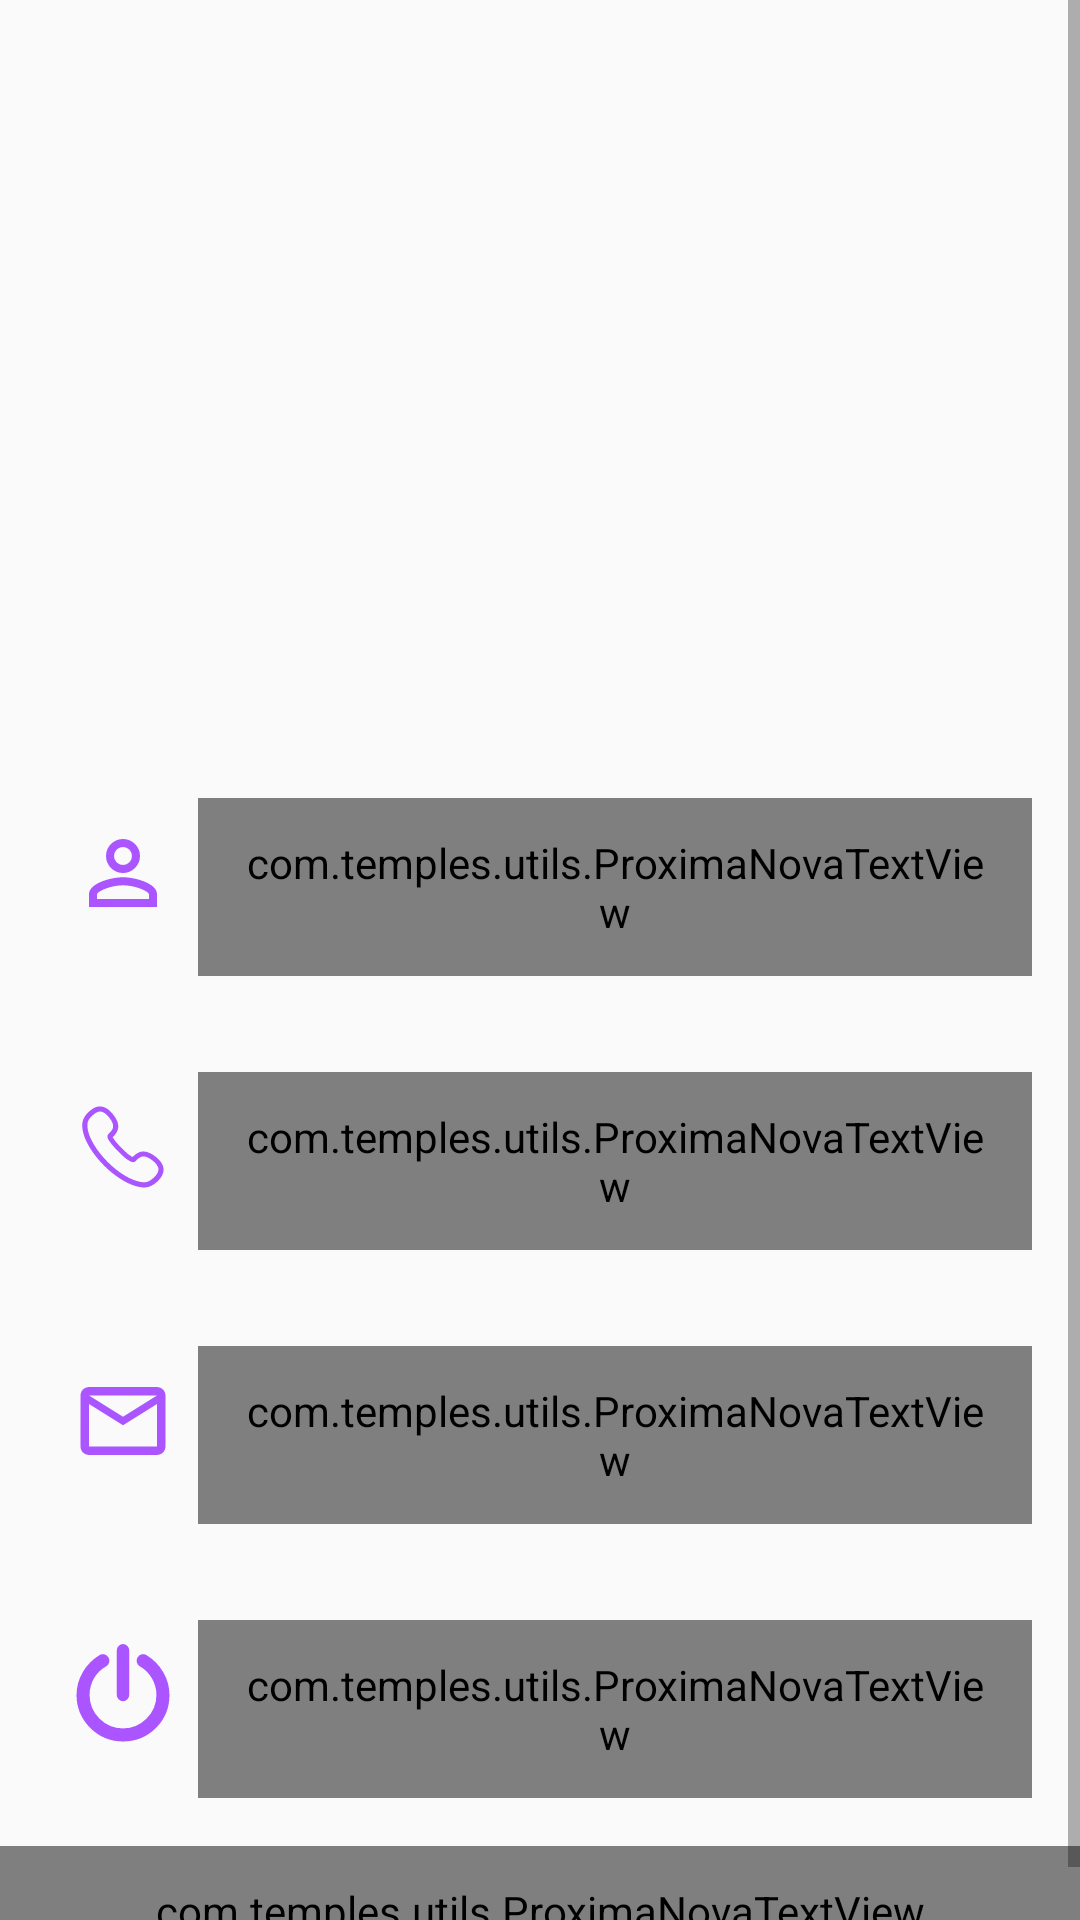

Icon bounding boxes for this 1080 x 1920 phone screenshot, format (x1, y1, x2, y2):
call: (82, 1106, 164, 1188)
mail: (80, 1387, 166, 1455)
profile: (89, 839, 157, 907)
